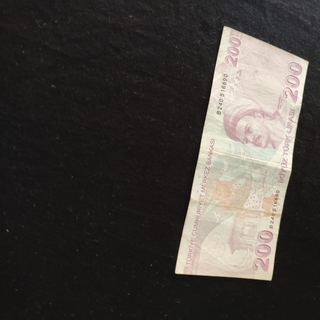200TLBack: (174, 25, 309, 281)
